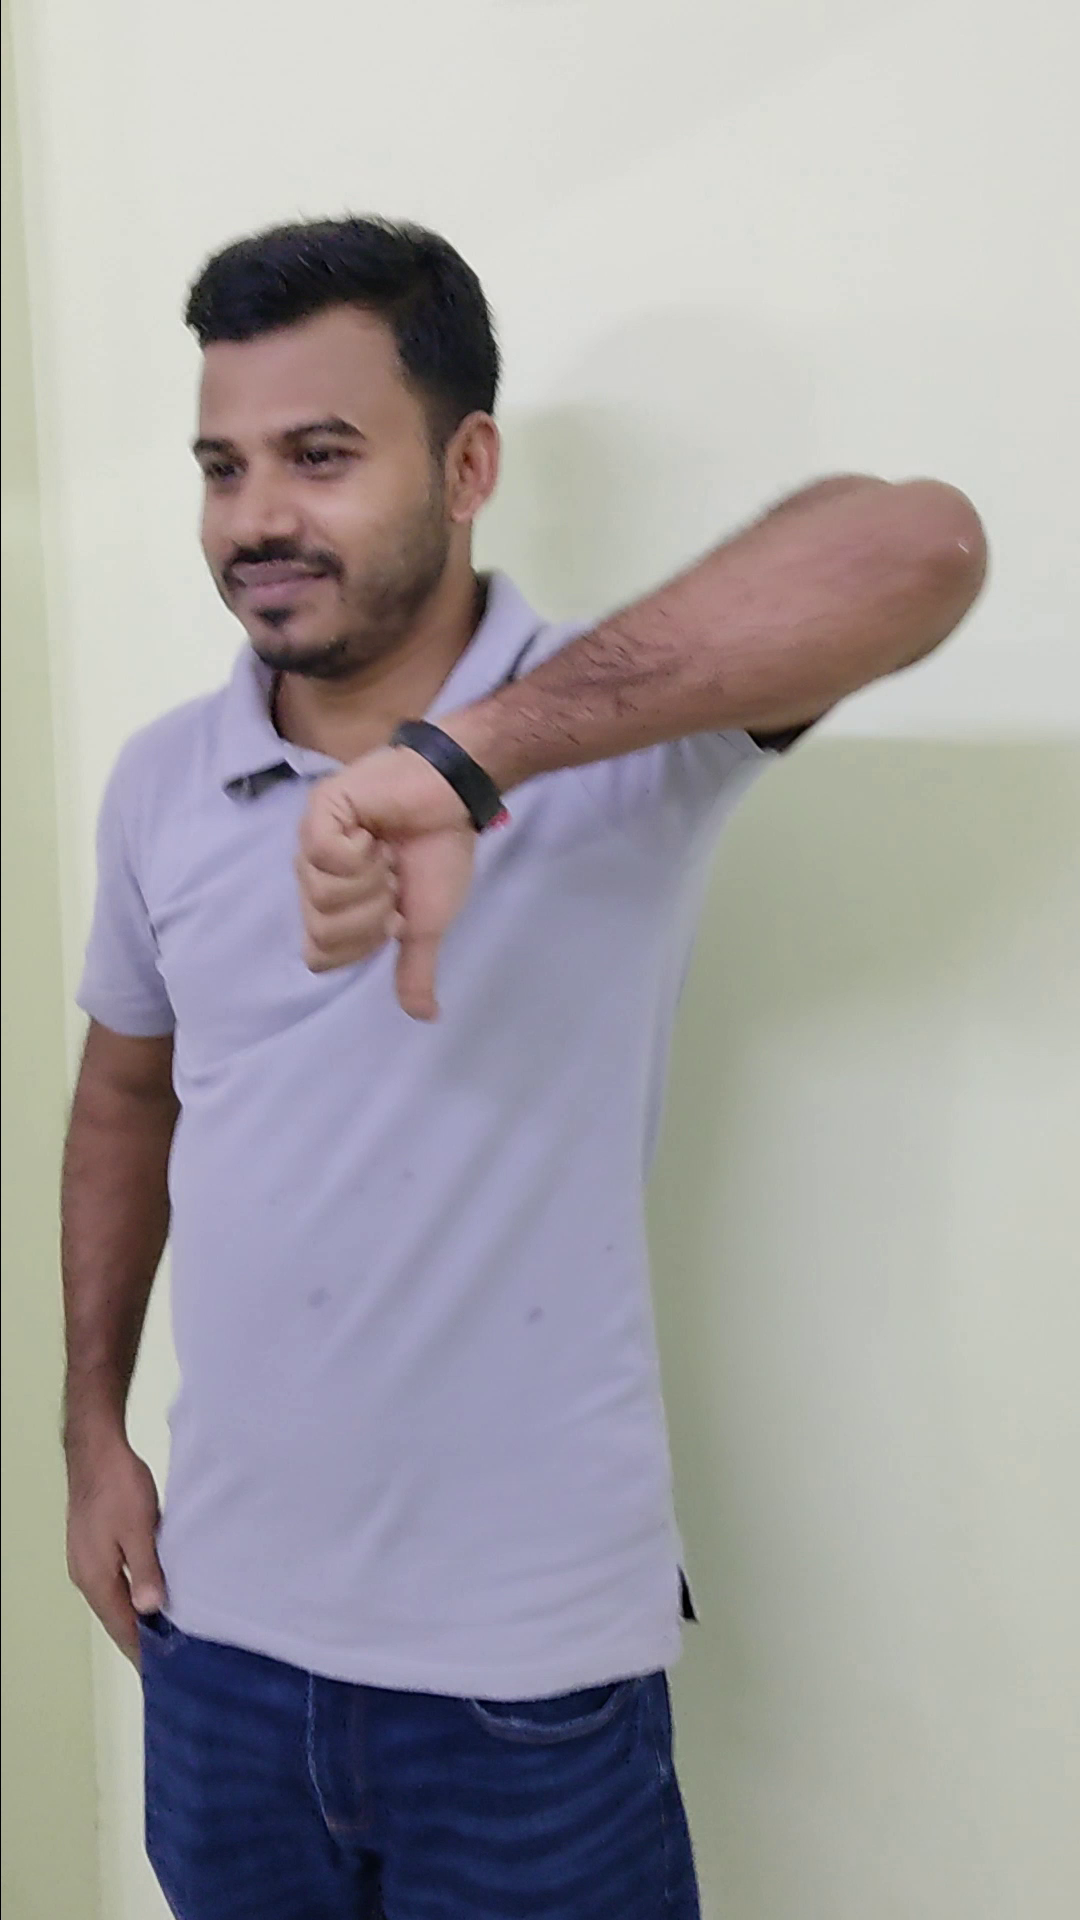Dislike: (276, 709, 506, 1035)
None: (37, 1396, 185, 1691)
